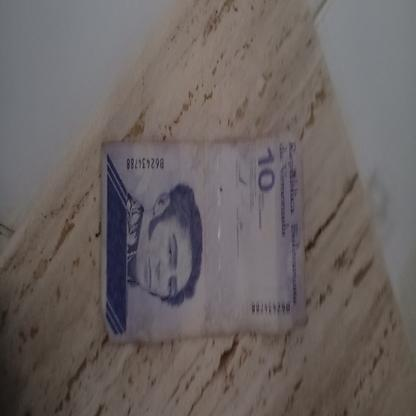ten-front-vef: (98, 141, 306, 342)
